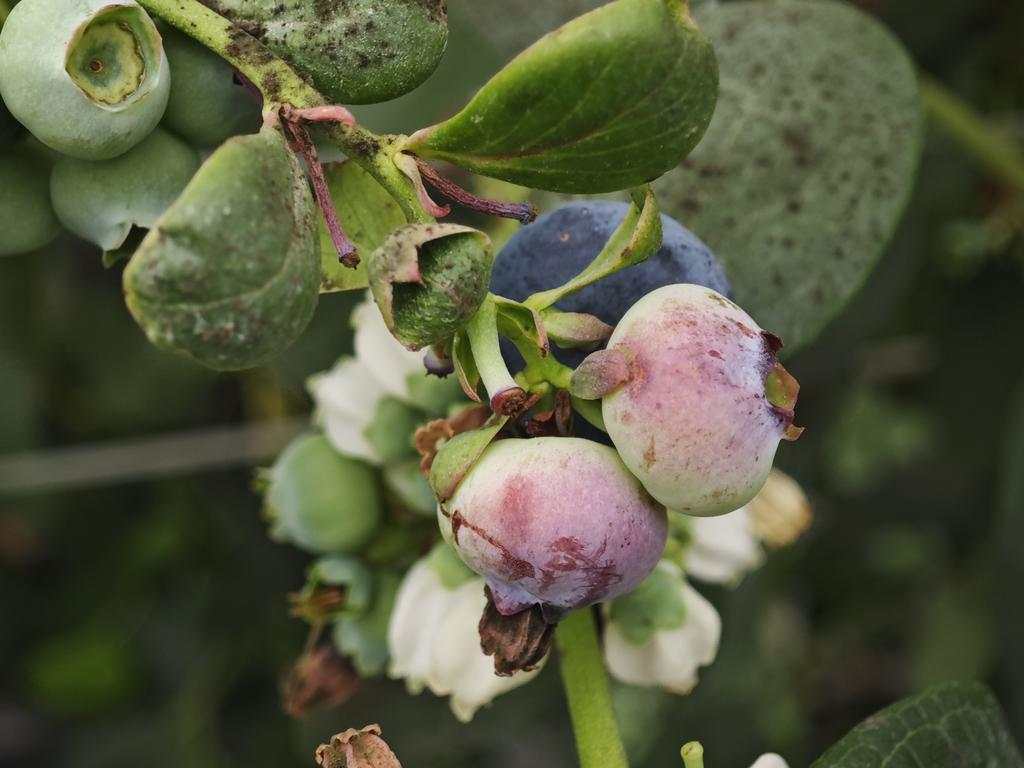Semi-RipeBlueBerry: (432, 419, 680, 638), (593, 292, 824, 517)
UnripeBlueBerry: (0, 0, 207, 173)
